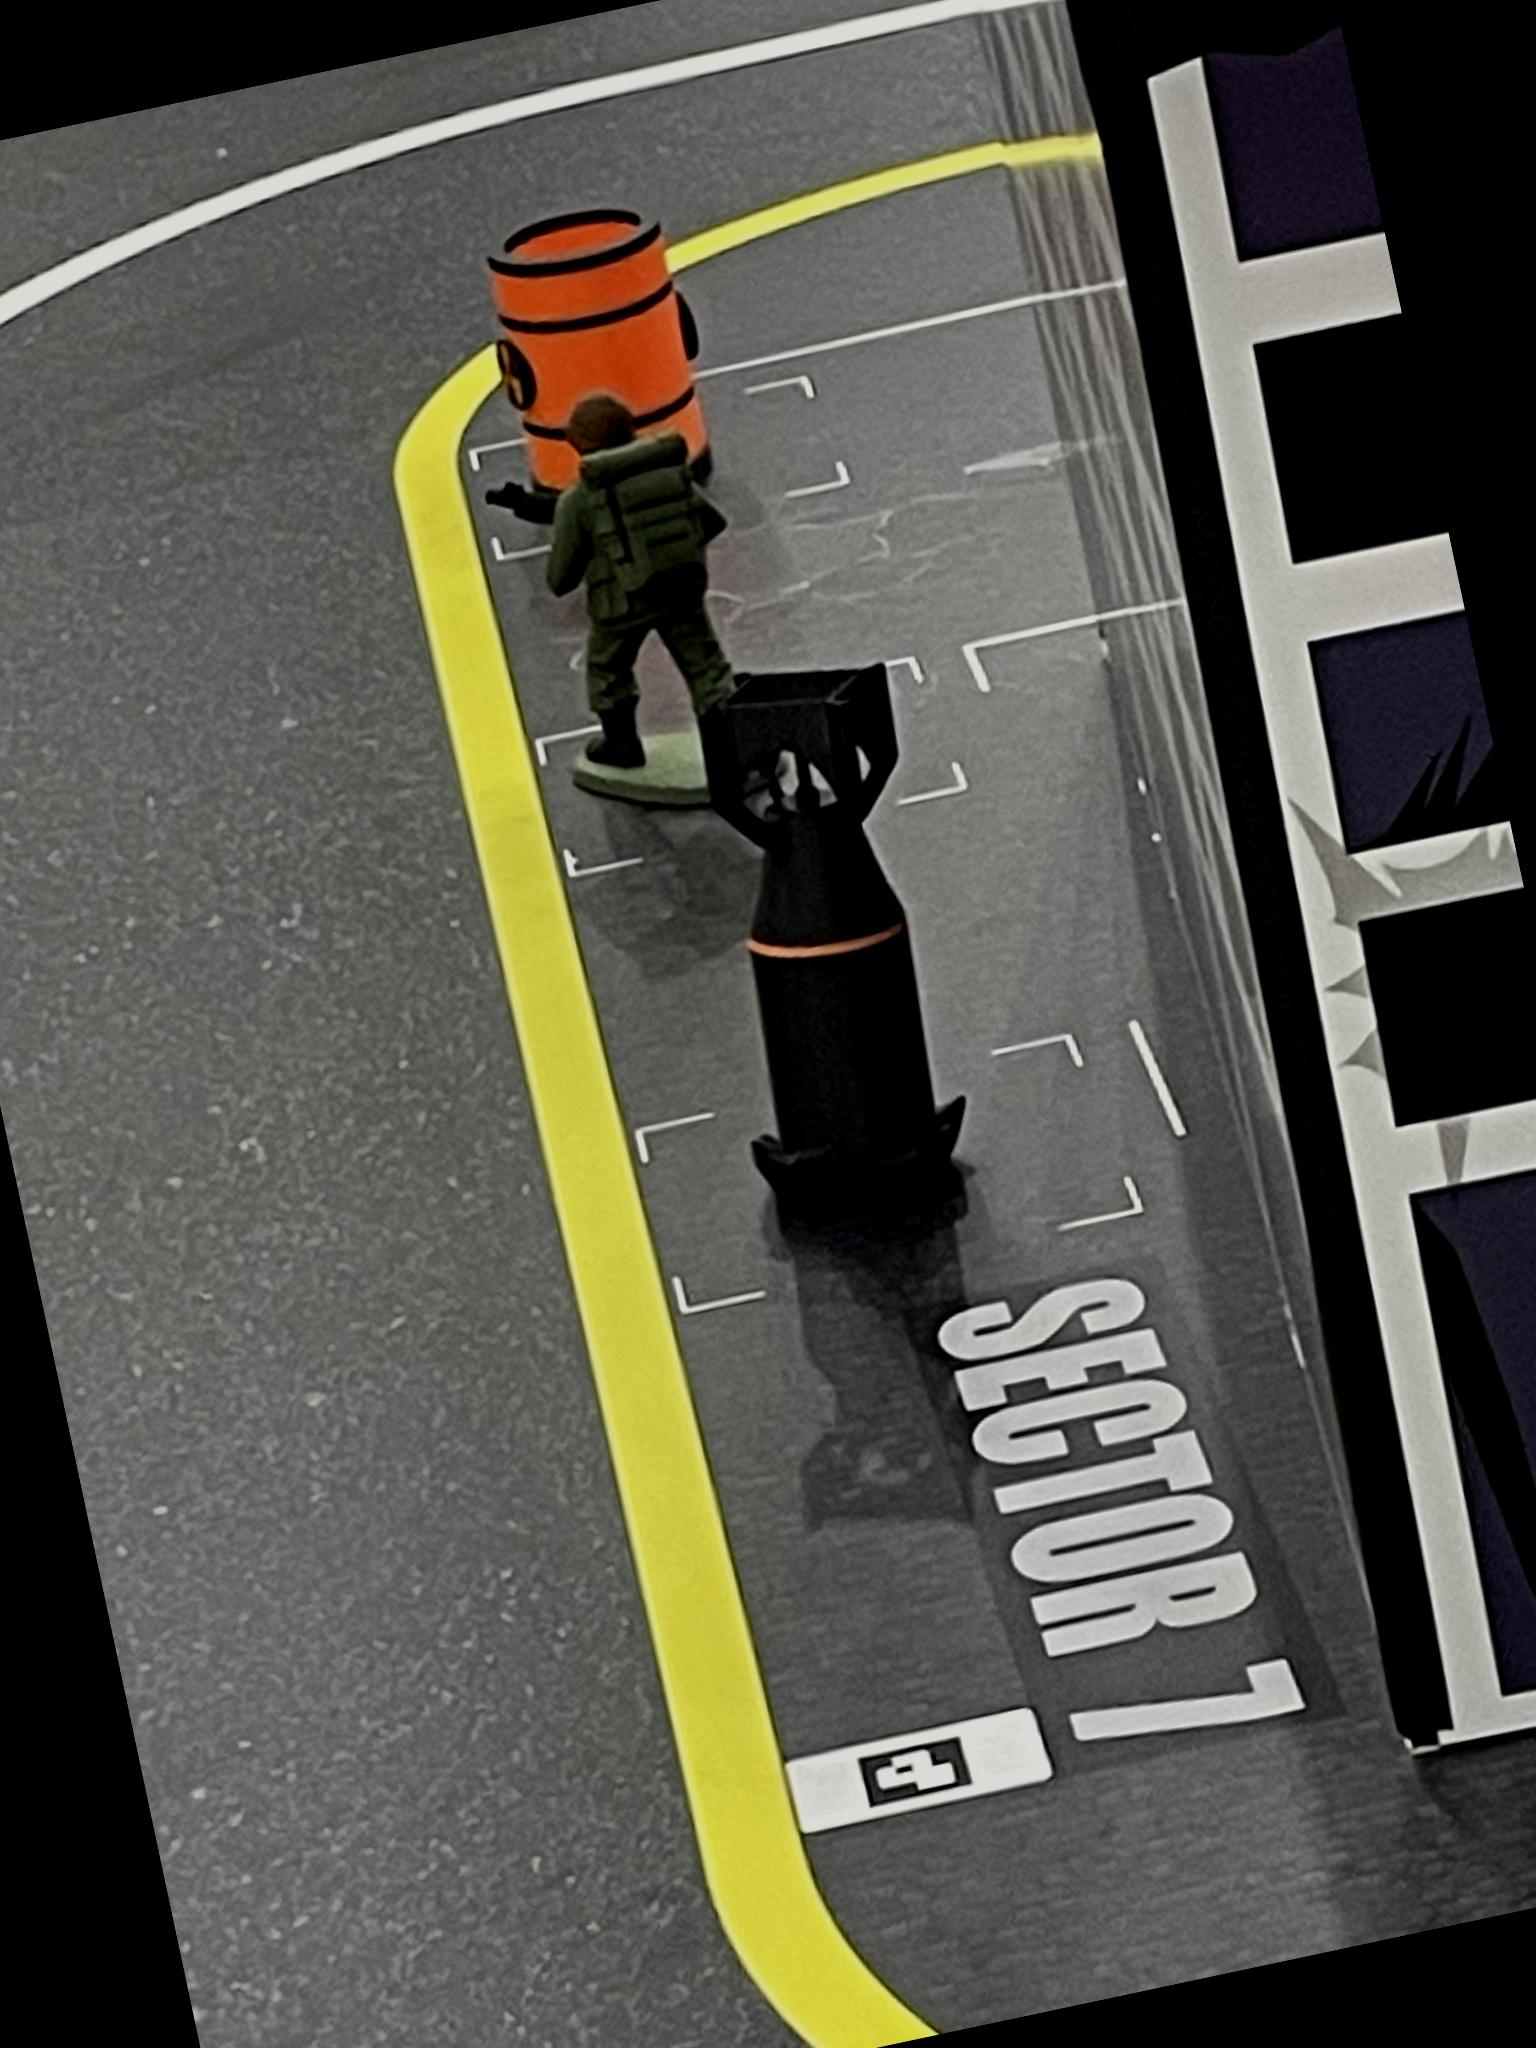Enemy: (476, 382, 771, 824)
Hazmat: (471, 177, 712, 476)
Missile: (655, 648, 989, 1235)
